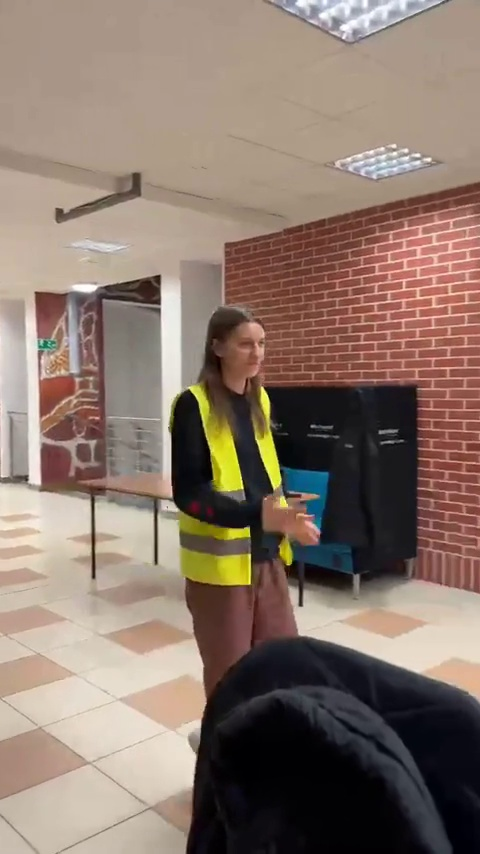vest: (169, 302, 313, 650)
